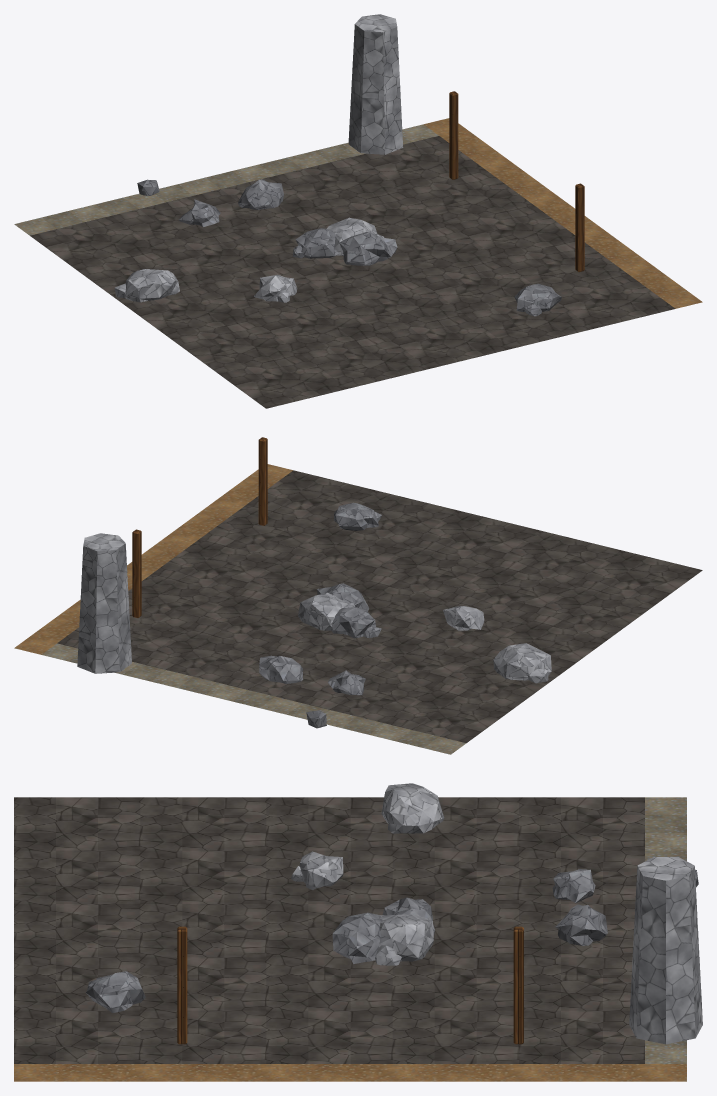
Rendered from chunk_5_18.glb.
3 views of the same model, one above another, from view 1: azimuth 30°, elevation 25°; view 2: azimuth 150°, elevation 25°; view 3: azimuth 270°, elevation 25° (orthographic). The views are drawn at different scales.
Parts seen in each view (by area): view 1: chunk_5_18; view 2: chunk_5_18; view 3: chunk_5_18.
Boxes of the visible parts, left/top/right/bottom form: chunk_5_18: left=14, top=14, right=702, bottom=408; chunk_5_18: left=14, top=437, right=702, bottom=754; chunk_5_18: left=14, top=783, right=702, bottom=1081.
Bounding box in the file's own units: 16 × 4.76 × 16.38.
Materials: 8 (8 with a texture image).
